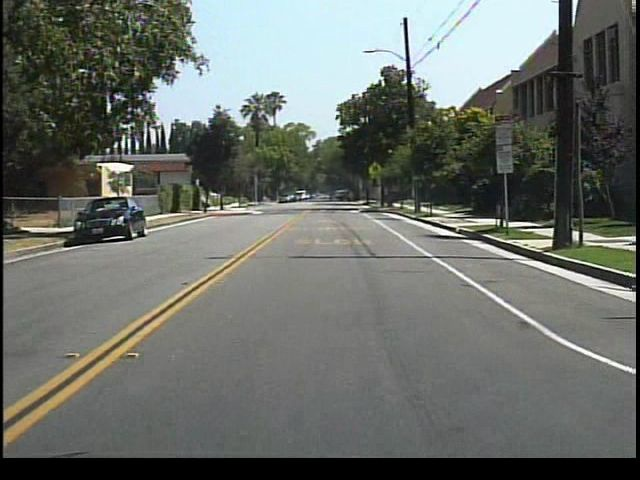person: (324, 186, 339, 204)
